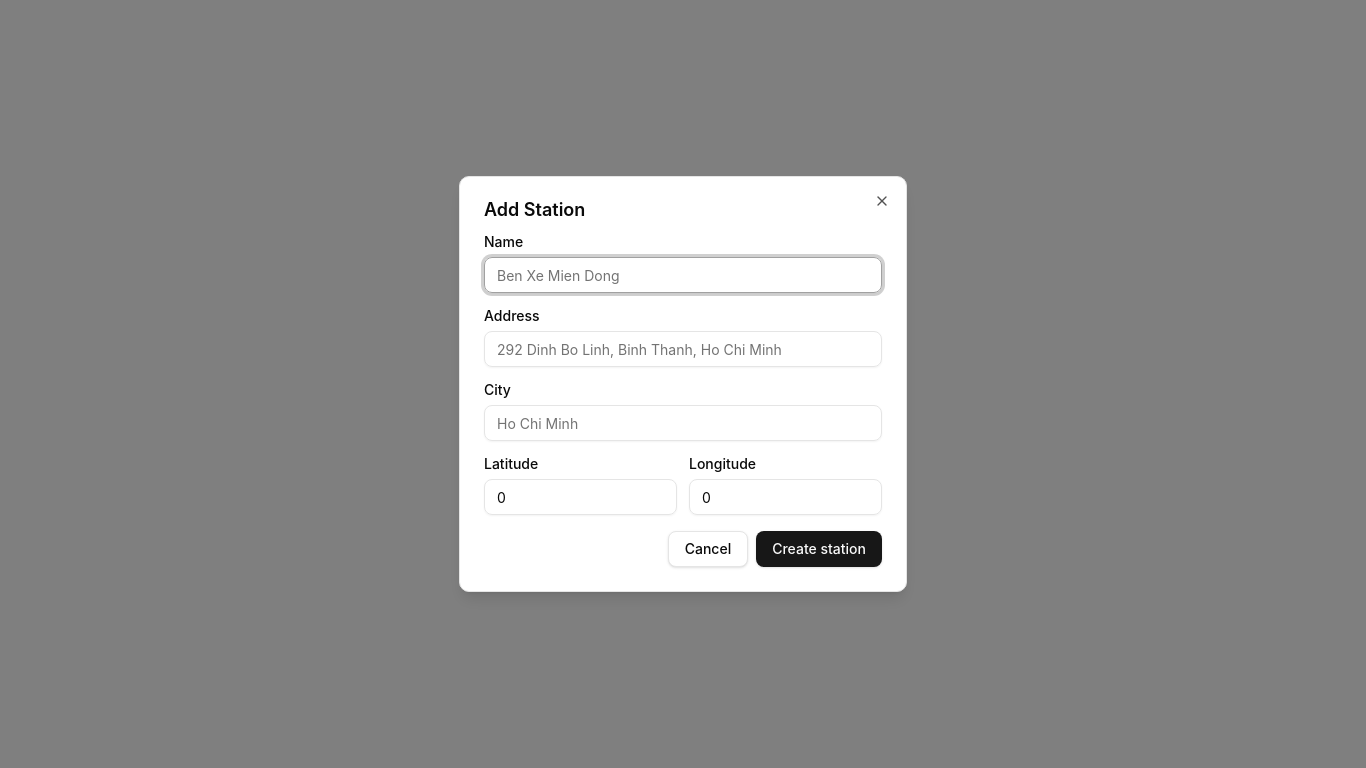
Test case: StationFormDialog › shows validation errors on empty submit
The width and height of the screenshot is (1366, 768).
What coordinates should you click on to do the following:
click the button "Create station"
I would click on:
 (819, 549)
Its box is left=756, top=531, right=882, bottom=567.
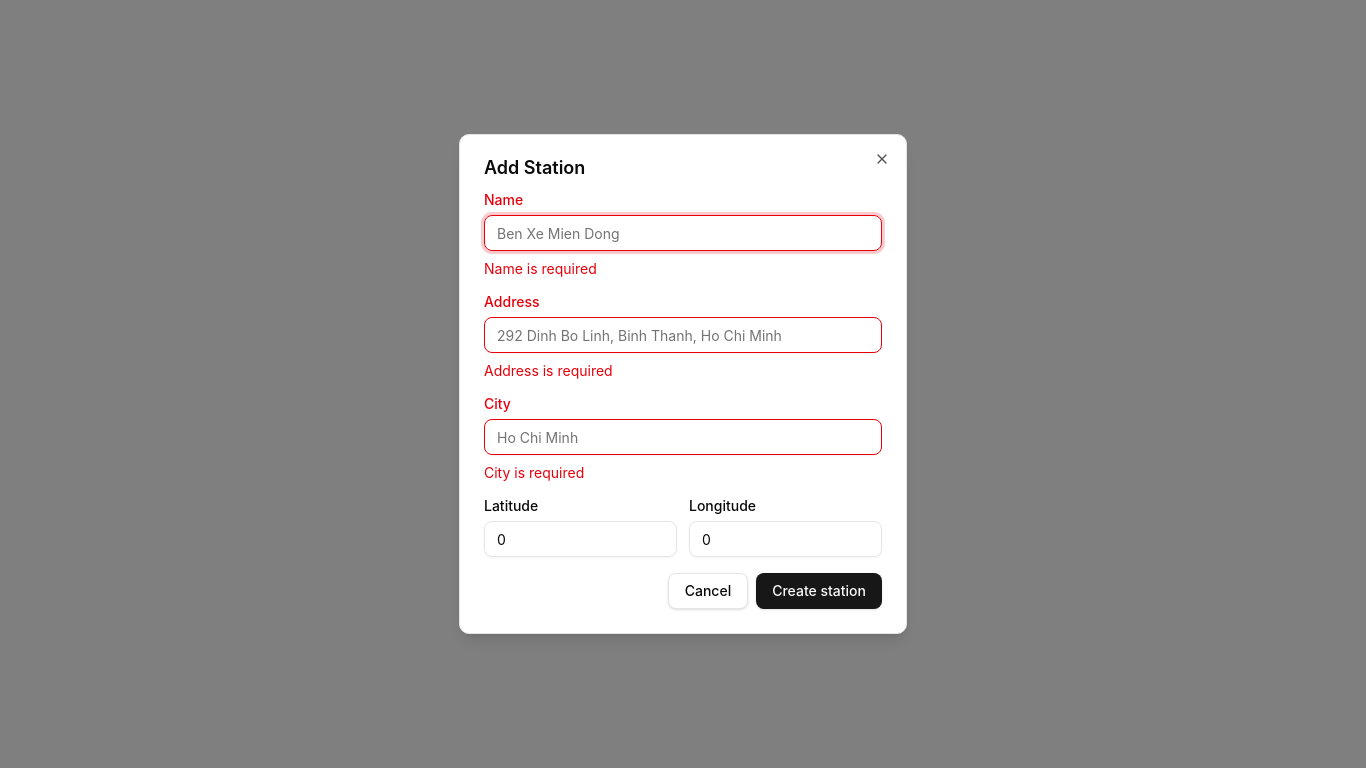
Check: the text "Name is required" is shown, box left=484, top=260, right=597, bottom=277
